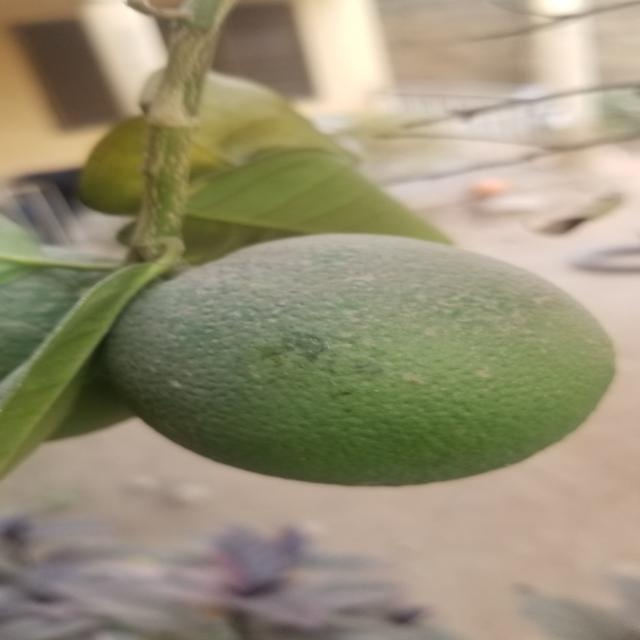agrume: (105, 233, 623, 484)
